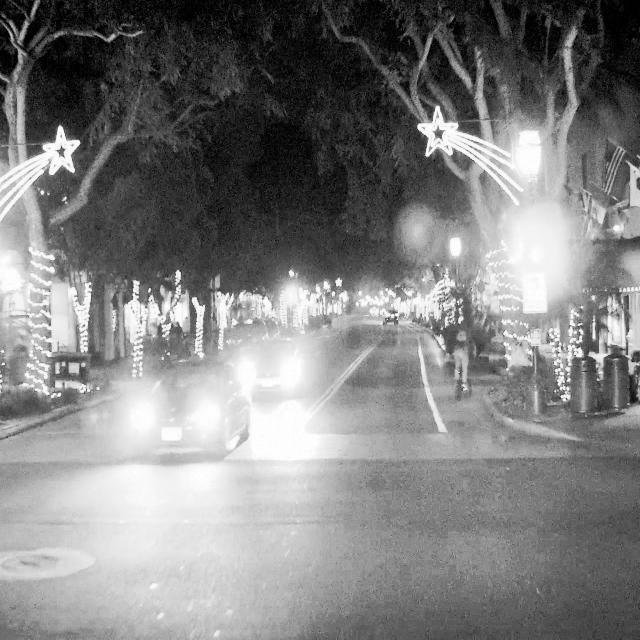Car: (129, 359, 252, 459), (237, 335, 304, 402)
Light: (529, 214, 544, 264)
